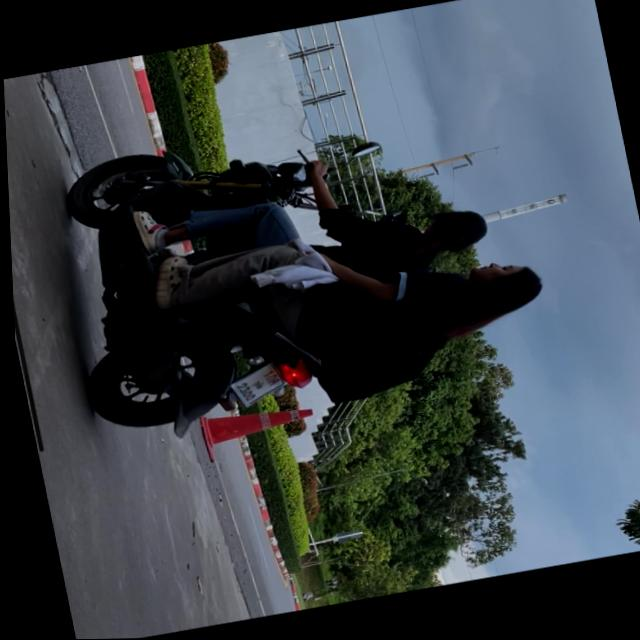seatbelt: (460, 256, 545, 318), (420, 204, 493, 259)
